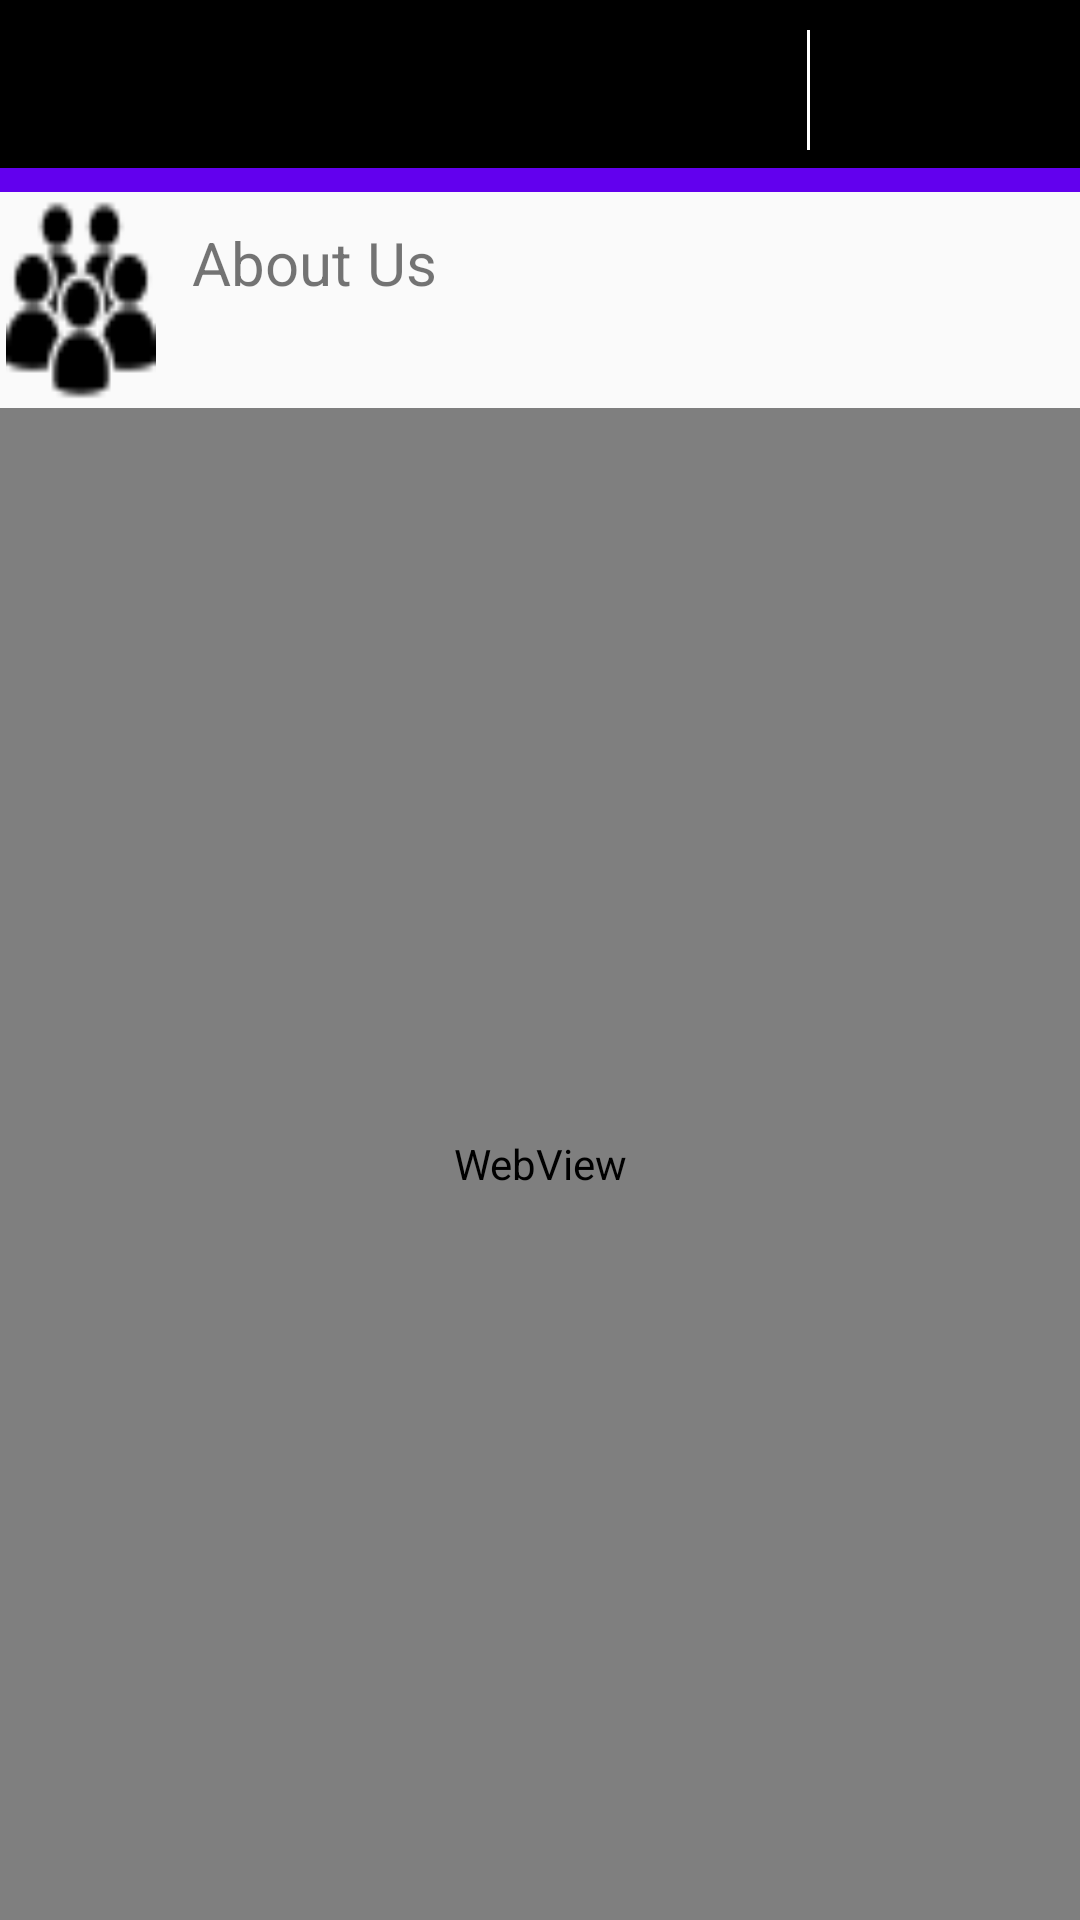

Icon click points for this 1080*1920 phone screenshot, format [x,y]:
userpx: [81,300]
